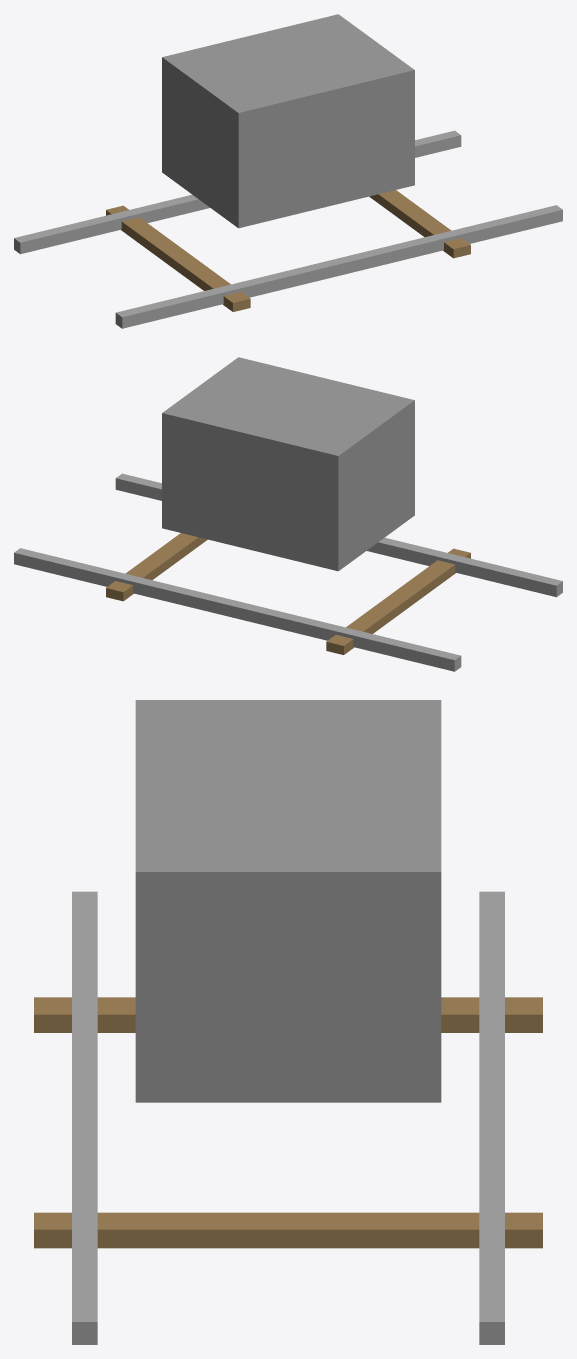
Rendered from env-ww-minecart.glb.
3 renders of one model, top to bottom at view 1: azimuth 30°, elevation 25°; view 2: azimuth 150°, elevation 25°; view 3: azimuth 270°, elevation 25°, orthographic. The views are drawn at different scales.
Bounding box in the file's own units: 2 × 0.75 × 1.
